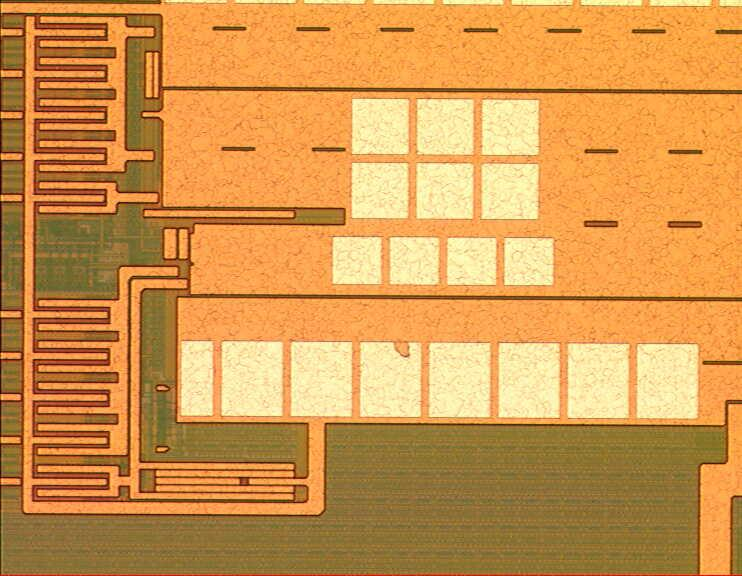BLOCK ETCH: (386, 336, 422, 372)
